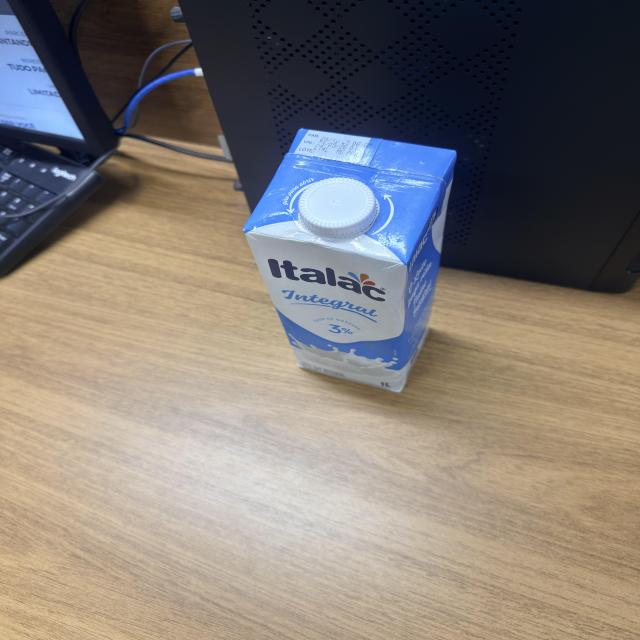Caixa de Leite: (243, 131, 457, 389)
